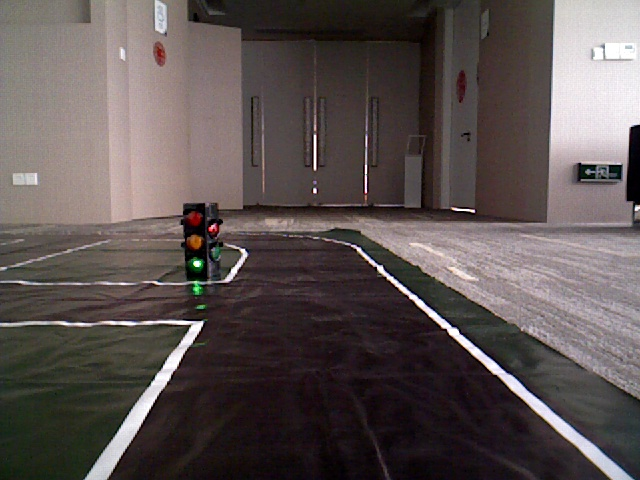green: (180, 203, 208, 271)
